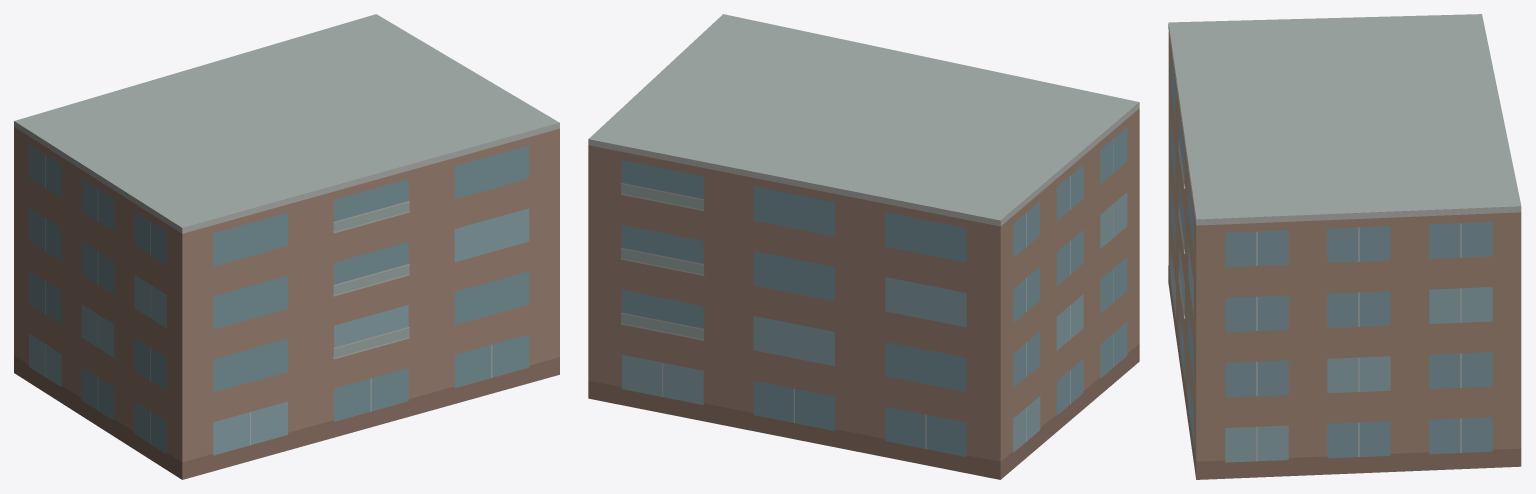
Rendered from survey-upis-32756462.glb.
The picture shows the model from 3 angles, left to right: view 1: azimuth 30°, elevation 25°; view 2: azimuth 150°, elevation 25°; view 3: azimuth 270°, elevation 25°; orthographic projection. The views are drawn at different scales.
Parts seen in each view (by area): view 1: survey-upis-32756462.tmp; view 2: survey-upis-32756462.tmp; view 3: survey-upis-32756462.tmp.
Part boxes in pixels (bbox=[...]): survey-upis-32756462.tmp: bbox=[14, 14, 559, 479]; survey-upis-32756462.tmp: bbox=[588, 14, 1139, 479]; survey-upis-32756462.tmp: bbox=[1168, 14, 1521, 479].
Size of the model in its own units: 17.79 by 10.5 by 12.91.
